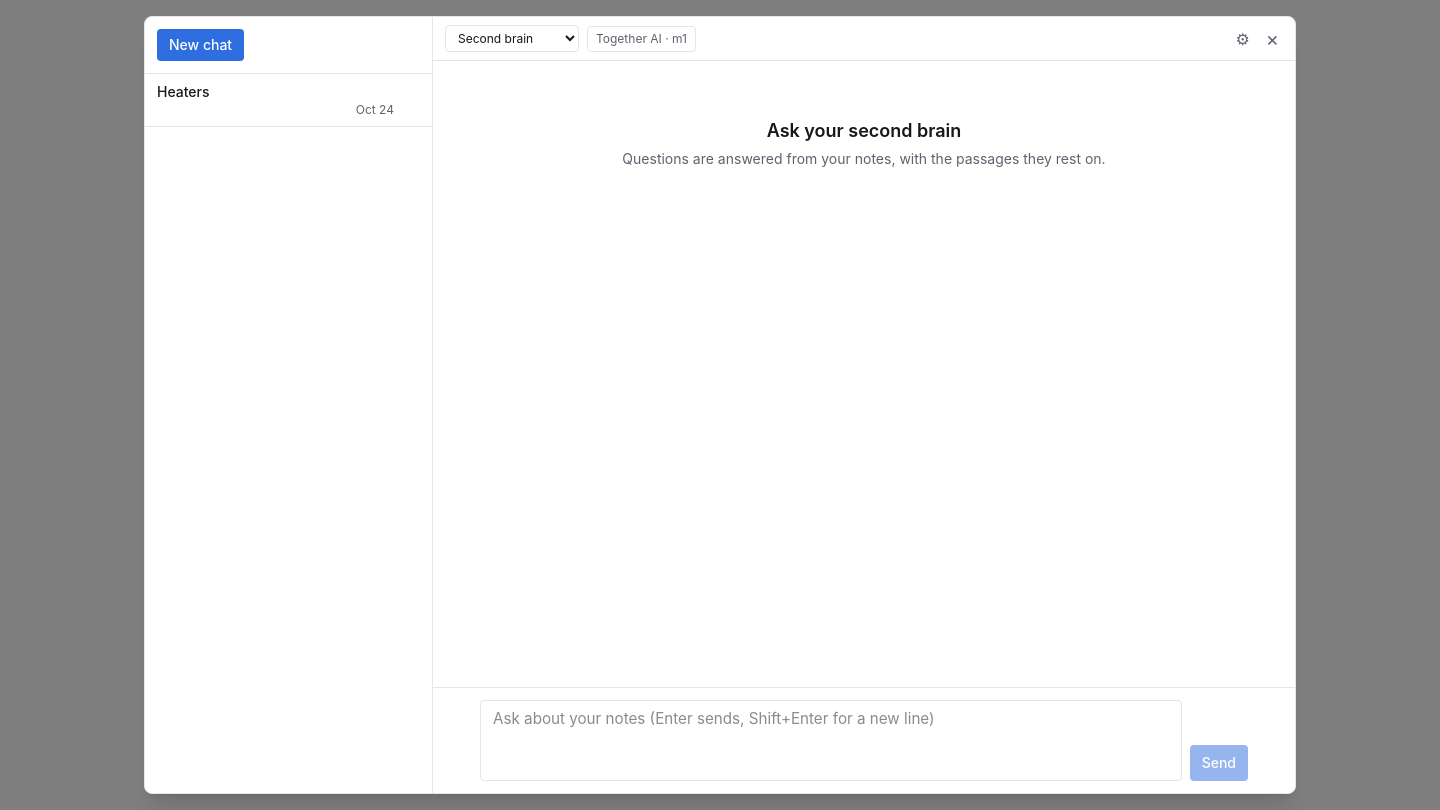
Test: ChatPanel › opens a conversation and renders its answer with citation links and sources
Step 1. Click the text "Heaters" → (183, 92), box [157,83,210,100]
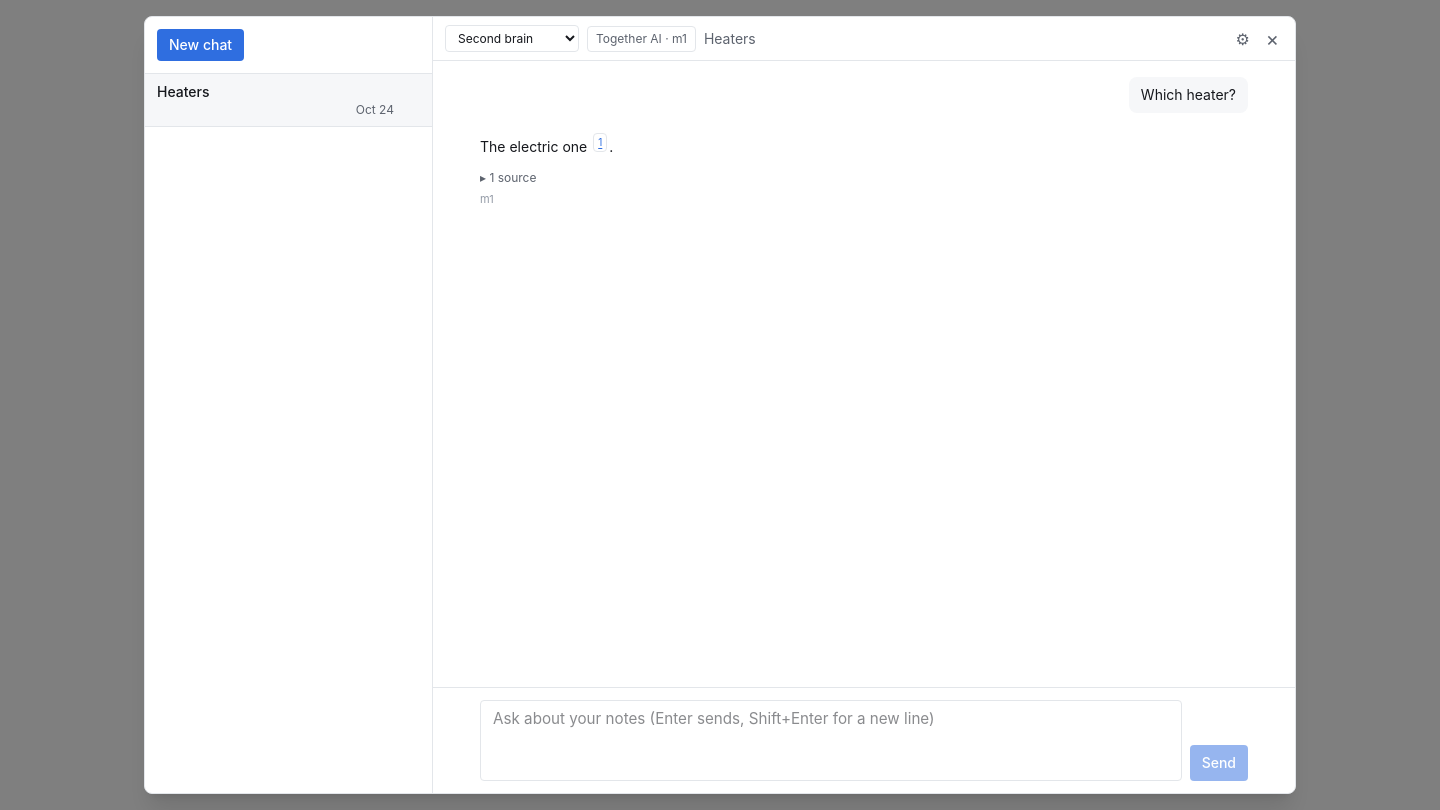
Expected: the text "Which heater?" is shown, [1129,77,1248,113]
Step 2. Click the button "▸ 1 source" → (508, 178), box [480,170,536,186]
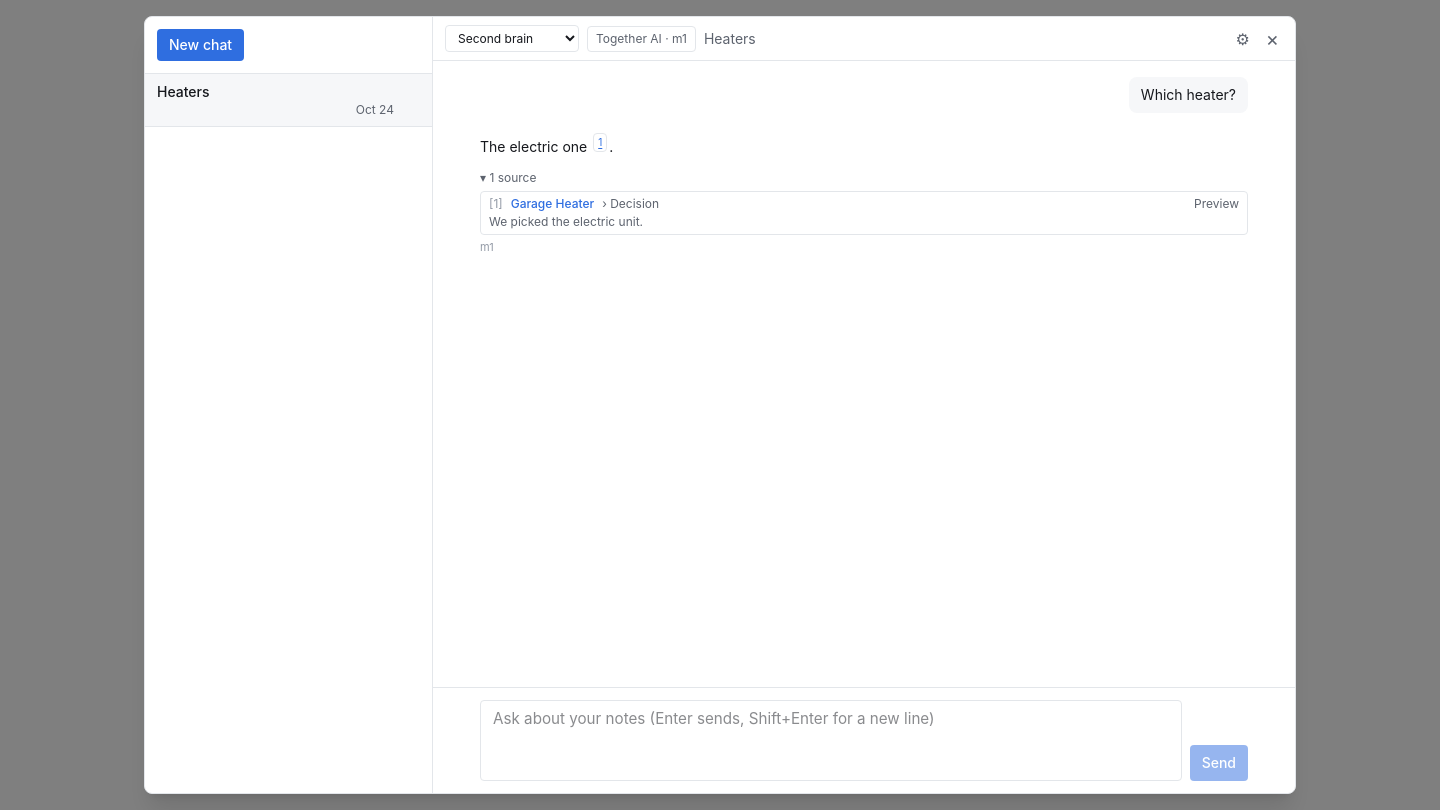
Expected: the link "Garage Heater" is shown, [511,196,594,212]
Expected: the text "We picked the electric unit." is shown, [489,214,643,229]
